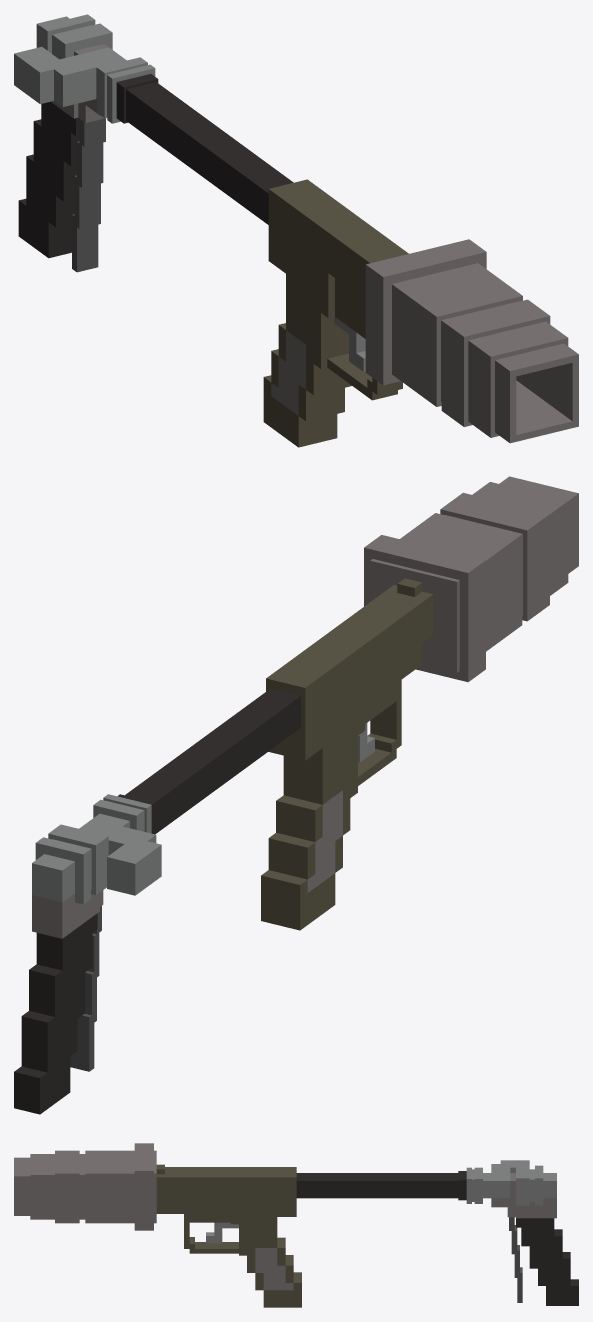
Rendered from flamethrower.fbx.
3 views of the same model, one above another, from view 1: azimuth 30°, elevation 25°; view 2: azimuth 150°, elevation 25°; view 3: azimuth 270°, elevation 25° (orthographic). The views are drawn at different scales.
Visible parts, largest first — view 1: flamethrower_base, flamethrower_lever, flamethrower_trigger; view 2: flamethrower_base, flamethrower_lever; view 3: flamethrower_base, flamethrower_lever, flamethrower_trigger.
Part boxes in pixels (left/top/right/bottom): flamethrower_base: left=14, top=14, right=578, bottom=447; flamethrower_lever: left=72, top=118, right=105, bottom=272; flamethrower_trigger: left=334, top=317, right=365, bottom=371; flamethrower_base: left=14, top=476, right=578, bottom=1114; flamethrower_lever: left=70, top=906, right=101, bottom=1071; flamethrower_base: left=14, top=1143, right=578, bottom=1307; flamethrower_lever: left=509, top=1217, right=522, bottom=1302; flamethrower_trigger: left=206, top=1222, right=238, bottom=1243.
Bounding box in the file's own units: 15.9 × 35.1 × 124.
